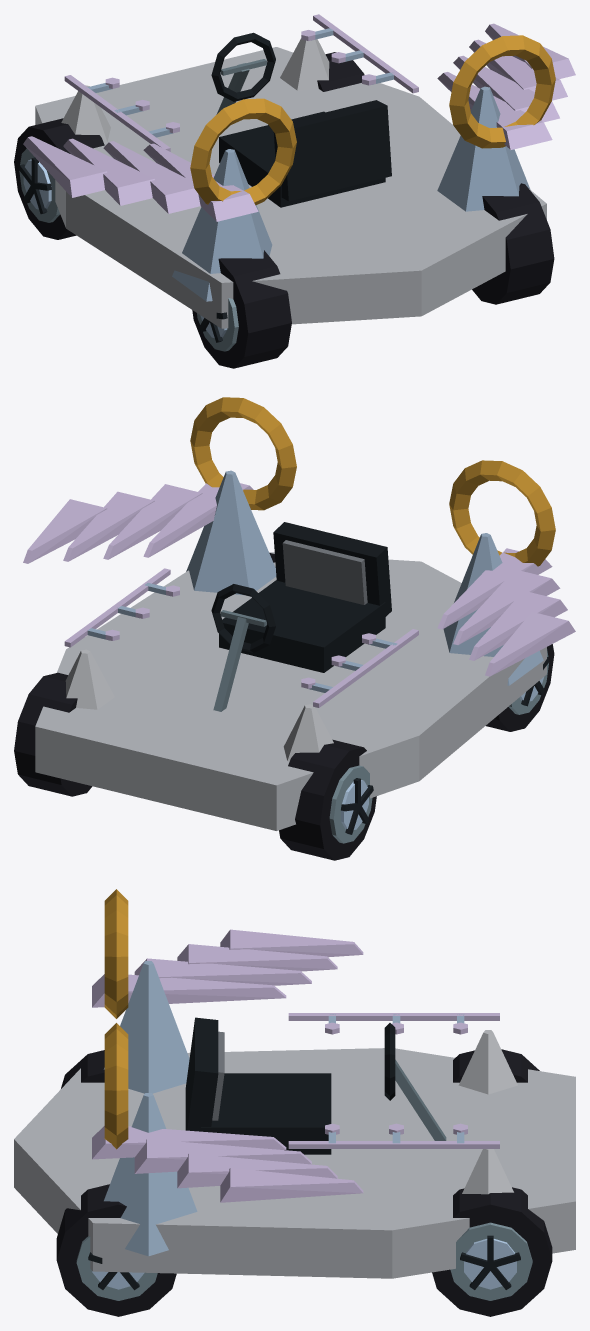
The model's file is kart.glb.
The picture shows the model from 3 angles, top to bottom: view 1: azimuth 30°, elevation 25°; view 2: azimuth 150°, elevation 25°; view 3: azimuth 270°, elevation 25°; orthographic projection. The views are drawn at different scales.
Visible parts, largest first — view 1: identity-crystal-crystal-faceted-platform, identity-crystal-motif-wings-feather, identity-crystal-driver-cockpit, identity-crystal-motif-ring, wheel-rear-left, wheel-rear-right, wheel-front-left, identity-crystal-motif-circuit, wheel-front-right; view 2: identity-crystal-crystal-faceted-platform, identity-crystal-driver-cockpit, identity-crystal-motif-wings-feather, identity-crystal-motif-ring, wheel-front-left, identity-crystal-motif-circuit, wheel-front-right, wheel-rear-left; view 3: identity-crystal-crystal-faceted-platform, identity-crystal-motif-wings-feather, identity-crystal-driver-cockpit, wheel-front-right, wheel-rear-right, identity-crystal-motif-ring, identity-crystal-motif-circuit, wheel-front-left, wheel-rear-left.
Boxes of the visible parts, x1,y1,x2,y2 form: identity-crystal-crystal-faceted-platform: (35,38,546,328); identity-crystal-motif-wings-feather: (23,23,575,221); identity-crystal-driver-cockpit: (211,32,391,207); identity-crystal-motif-ring: (190,35,555,205); wheel-rear-left: (192,250,291,368); wheel-rear-right: (472,183,554,304); wheel-front-left: (14,118,104,239); identity-crystal-motif-circuit: (64,14,418,151); wheel-front-right: (317,52,364,91); identity-crystal-crystal-faceted-platform: (35,470,546,830); identity-crystal-driver-cockpit: (211,522,391,711); identity-crystal-motif-wings-feather: (23,483,575,676); identity-crystal-motif-ring: (190,397,555,566); wheel-front-left: (279,739,376,860); identity-crystal-motif-circuit: (64,568,418,707); wheel-front-right: (14,672,92,796); wheel-rear-left: (486,644,554,731); identity-crystal-crystal-faceted-platform: (14,961,575,1278); identity-crystal-motif-wings-feather: (92,929,363,1202); identity-crystal-driver-cockpit: (185,1017,446,1154); wheel-front-right: (432,1187,552,1316); wheel-rear-right: (56,1184,176,1316); identity-crystal-motif-ring: (104,889,128,1149); identity-crystal-motif-circuit: (288,1013,499,1148); wheel-front-left: (453,1049,539,1082); wheel-rear-left: (61,1050,104,1088).
Size of the model in its own units: 2.88 by 1.42 by 2.63.
